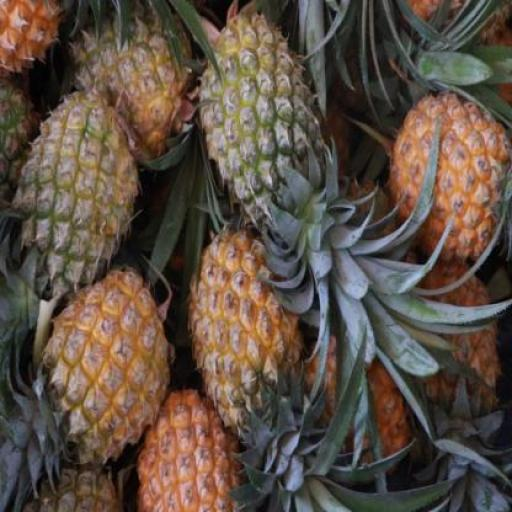------------------------------: (200, 8, 319, 222), (26, 99, 135, 294), (71, 0, 192, 158)
Pineapple - v8 v1: (46, 272, 171, 470), (188, 234, 306, 432), (389, 85, 509, 269), (137, 391, 249, 512)
